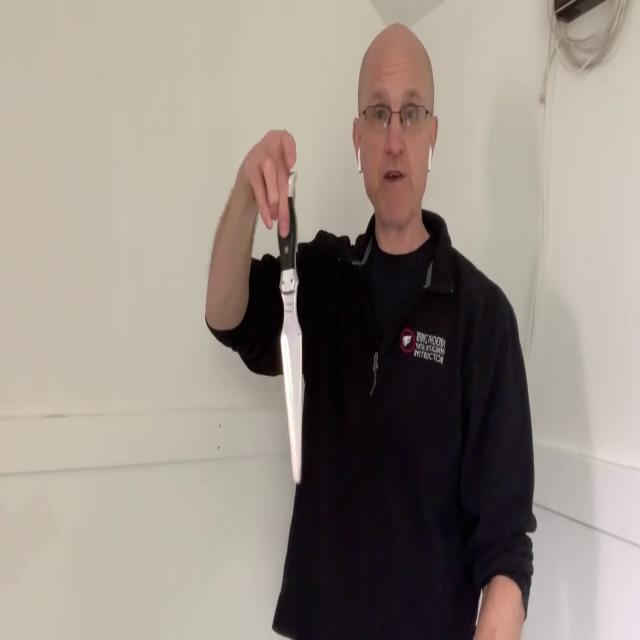Knife_Handle: (243, 129, 303, 484)
